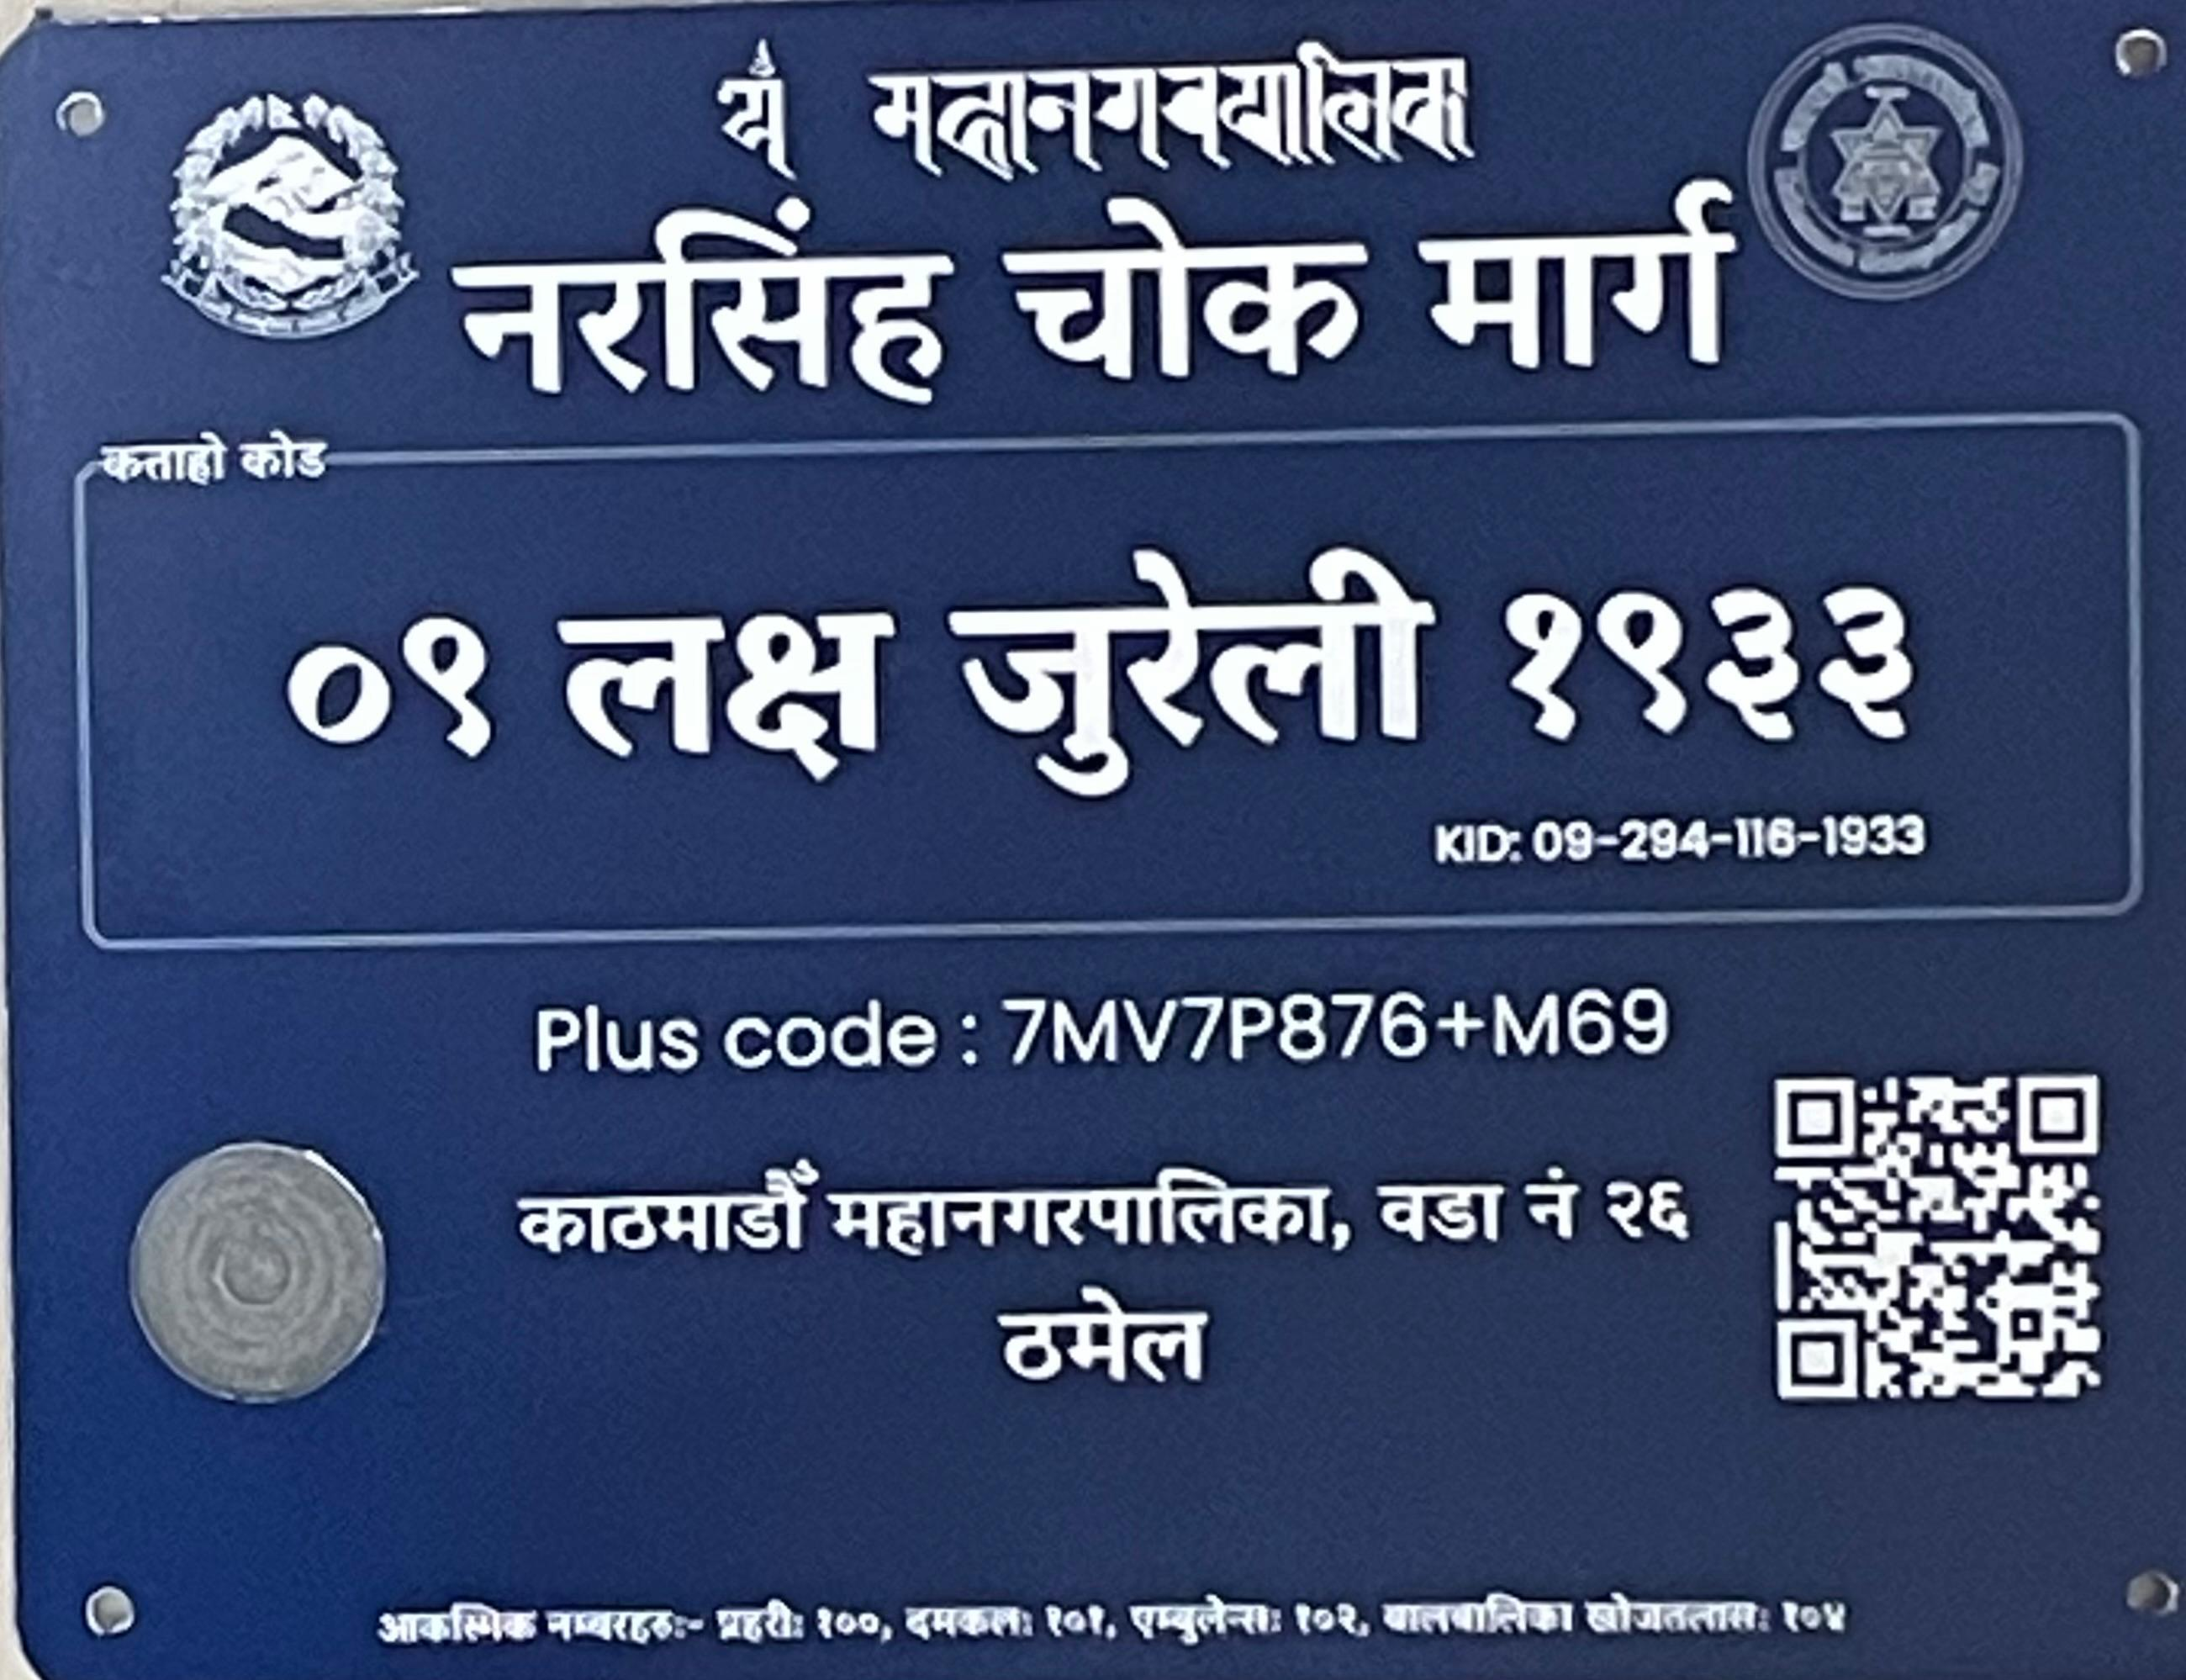Plate: (3, 3, 2186, 1680)
